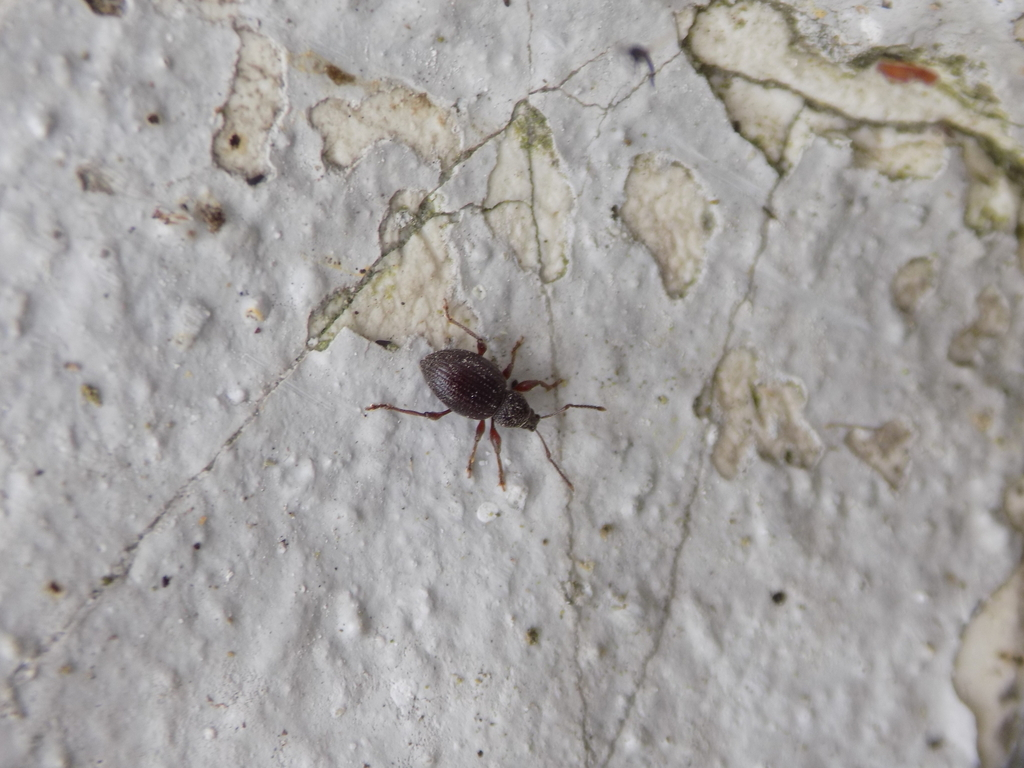weevils: (325, 258, 655, 549)
